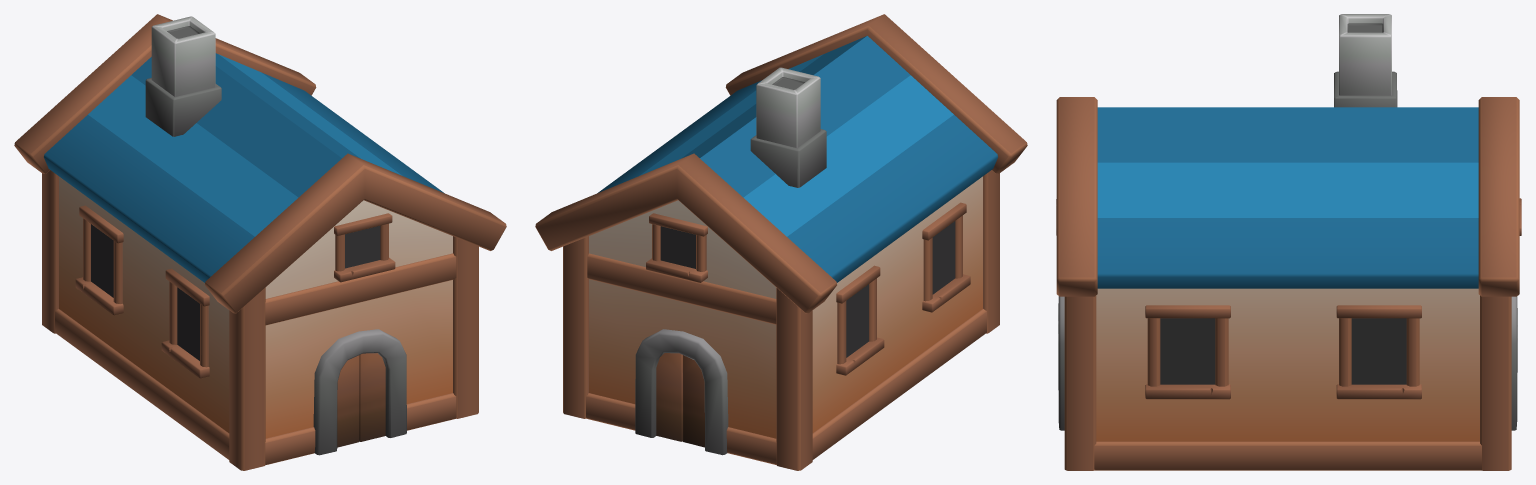
Rendered from House_4.fbx.
3 renders of one model, left to right at view 1: azimuth 30°, elevation 25°; view 2: azimuth 150°, elevation 25°; view 3: azimuth 270°, elevation 25°, orthographic. The views are drawn at different scales.
Parts seen in each view (by area): view 1: House_4; view 2: House_4; view 3: House_4.
Part boxes in pixels (<box>): House_4: <box>14,14,506,470</box>; House_4: <box>535,14,1027,470</box>; House_4: <box>1056,14,1521,470</box>.
Size of the model in its own units: 339 by 368 by 431.
